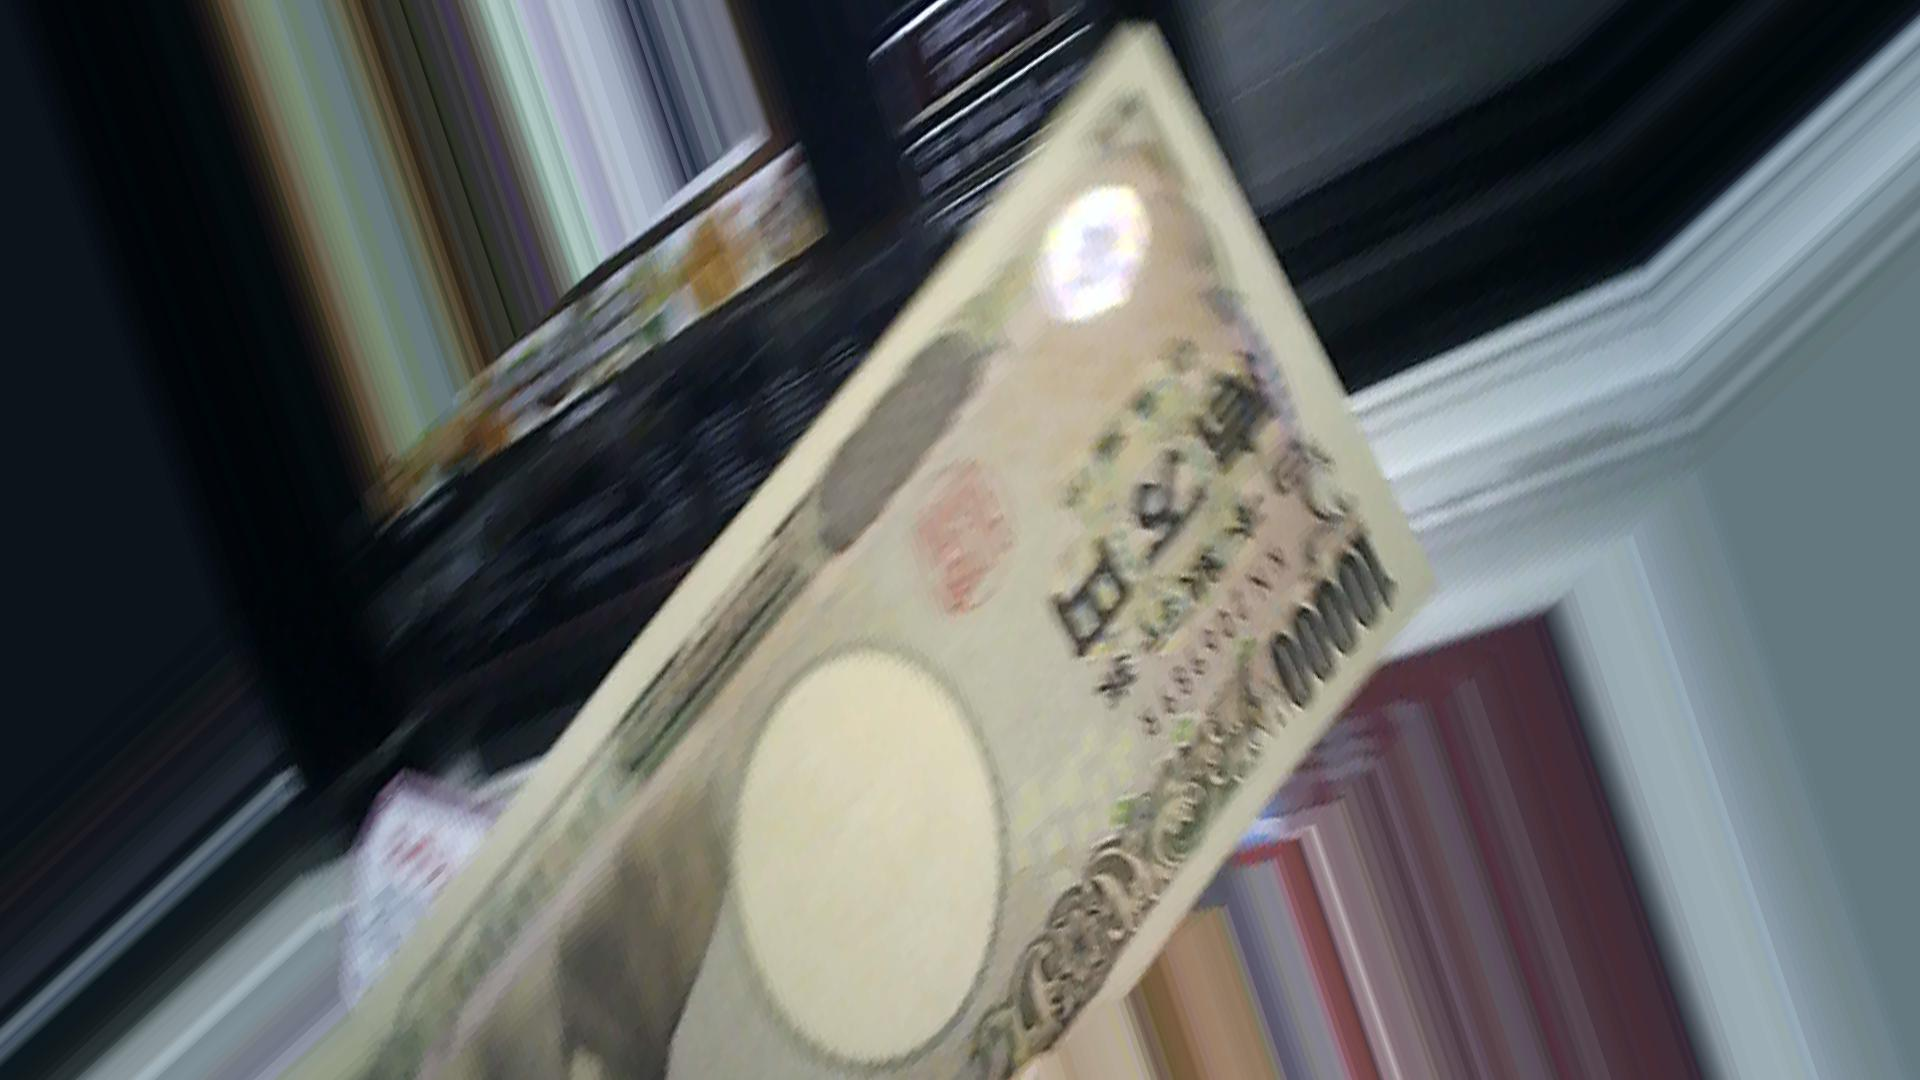10,000 Yen: (688, 28, 1403, 1011)
